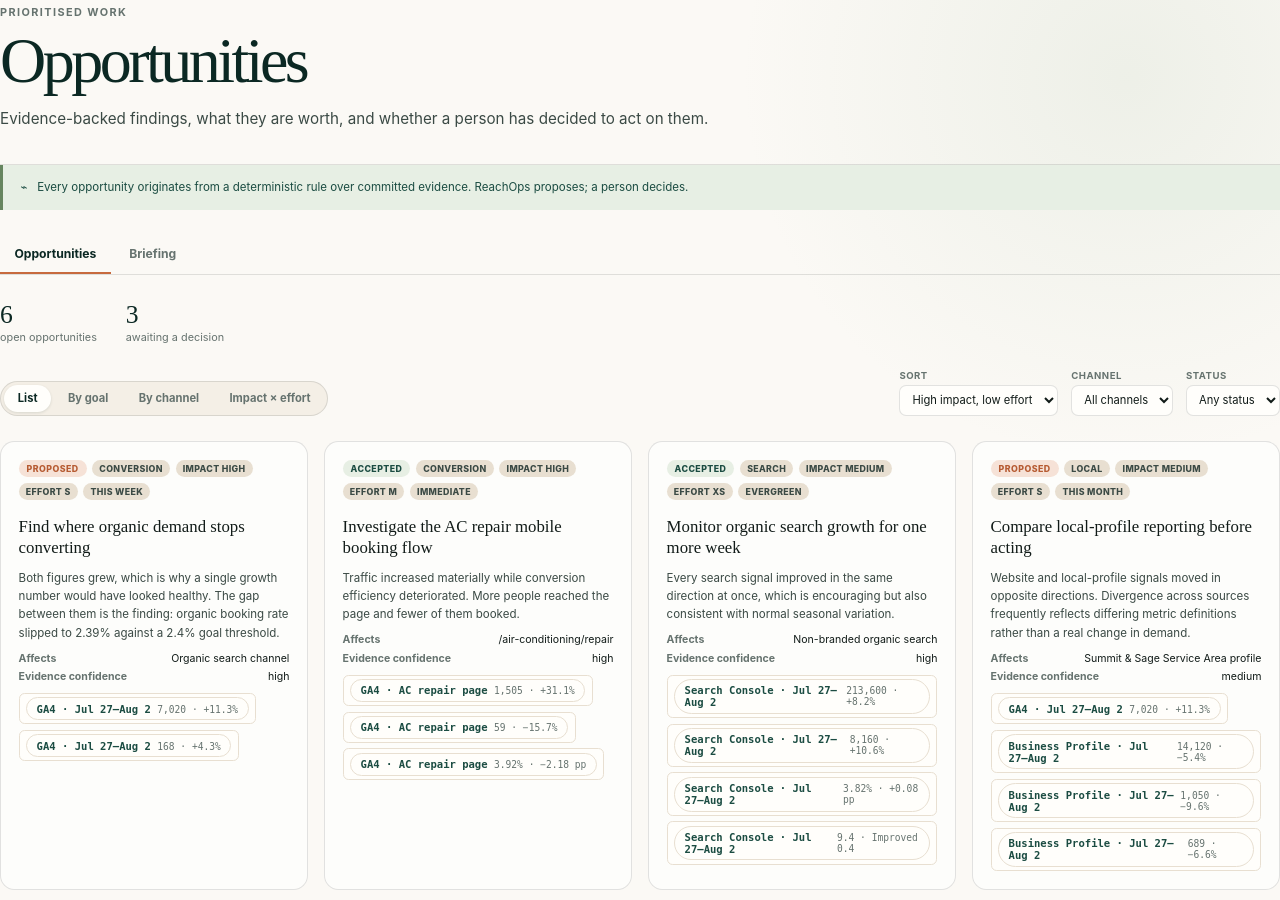
Test: planning content from an opportunity › creates a pipeline item and says what it did not do
Click the button "Find where organic demand stops converting": (154, 538) x1=19 y1=517 x2=289 y2=559
(page scrolled)
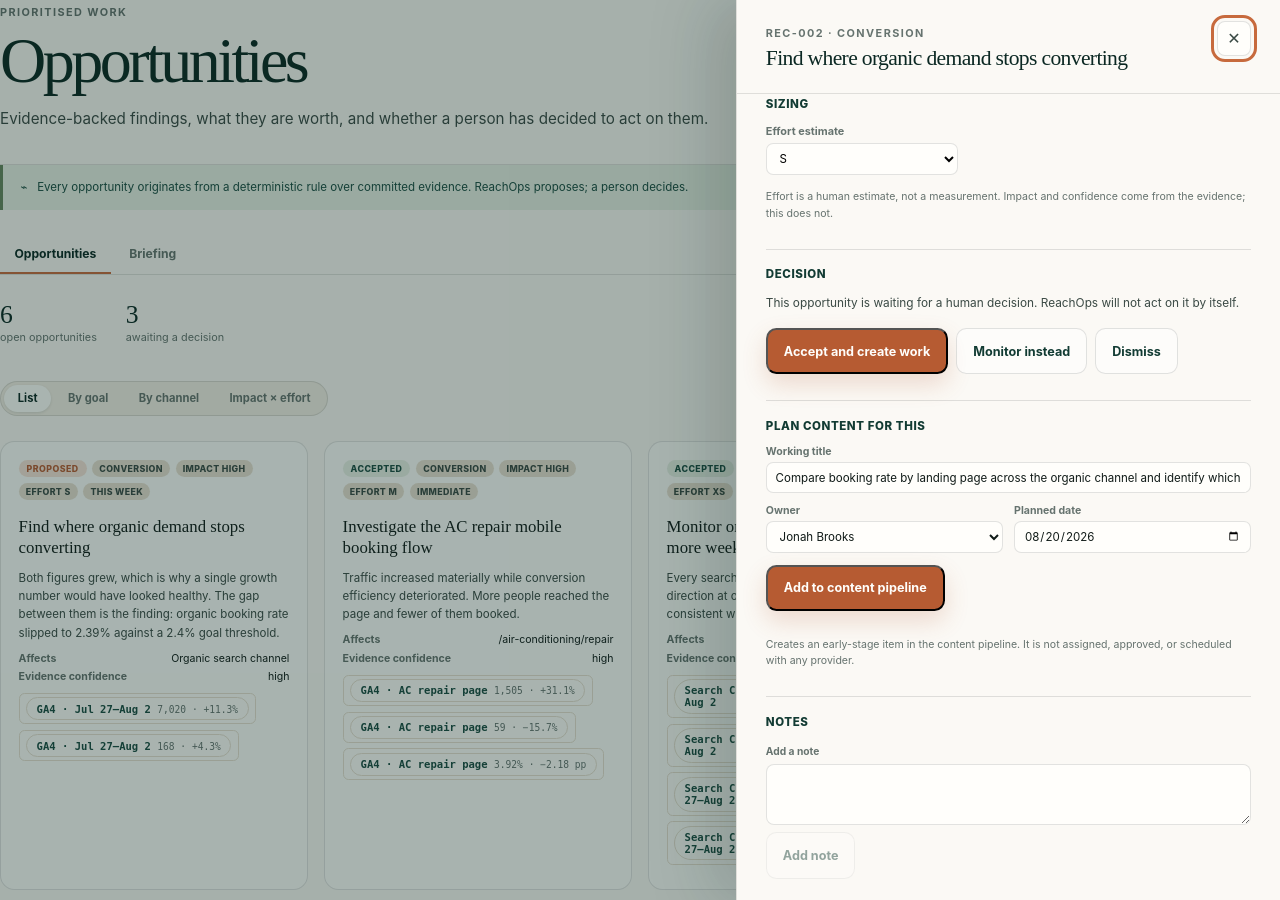
Click the button "Add to content pipeline": (855, 588) x1=766 y1=565 x2=945 y2=611
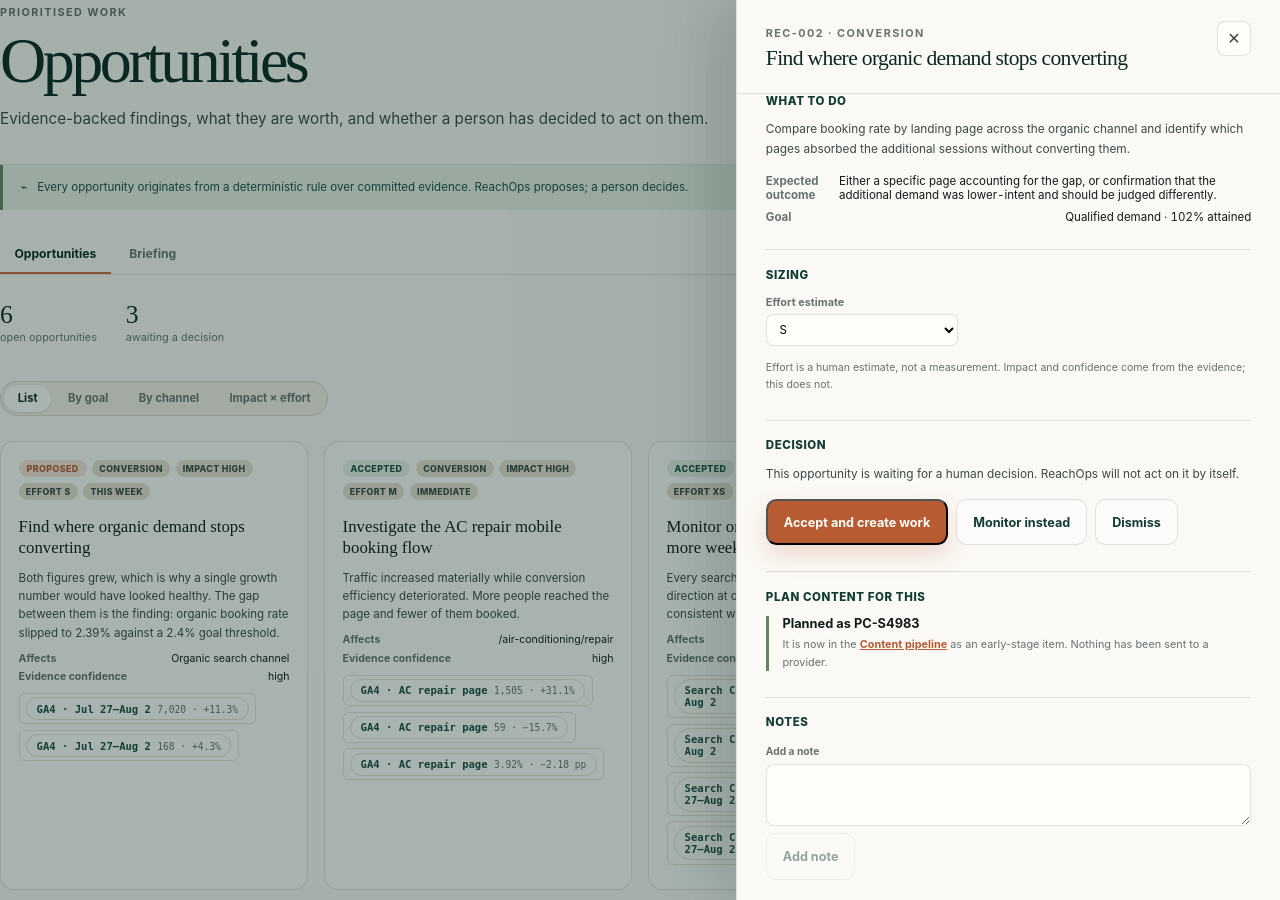
Check: the text "Planned as PC-S4983" is shown, box x1=782 y1=616 x2=920 y2=631
Check: the text "nothing has been sent to a provider" is shown, box x1=782 y1=637 x2=1208 y2=669
